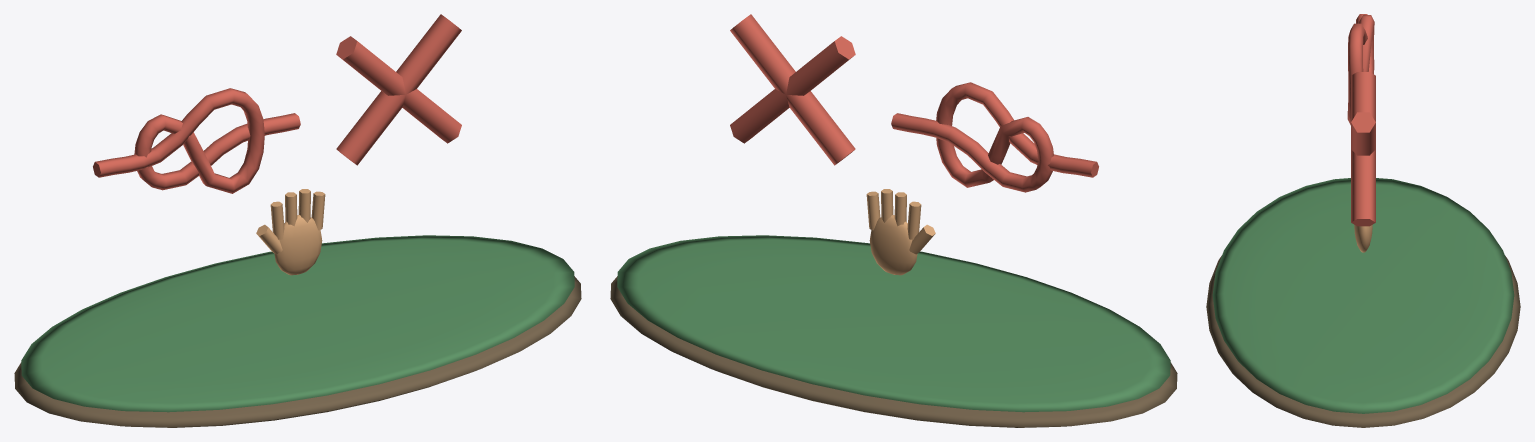
The model's file is complete-second-numb-annoyed-trouble.glb.
3 renders of one model, left to right at view 1: azimuth 30°, elevation 25°; view 2: azimuth 150°, elevation 25°; view 3: azimuth 270°, elevation 25°, orthographic. The views are drawn at different scales.
Visible parts, largest first — view 1: complete-second-numb-annoyed-trouble_surface_01, complete-second-numb-annoyed-trouble_surface_02, complete-second-numb-annoyed-trouble_surface_00, complete-second-numb-annoyed-trouble_surface_03; view 2: complete-second-numb-annoyed-trouble_surface_01, complete-second-numb-annoyed-trouble_surface_02, complete-second-numb-annoyed-trouble_surface_00, complete-second-numb-annoyed-trouble_surface_03; view 3: complete-second-numb-annoyed-trouble_surface_01, complete-second-numb-annoyed-trouble_surface_00, complete-second-numb-annoyed-trouble_surface_02, complete-second-numb-annoyed-trouble_surface_03.
Boxes of the visible parts, x1,y1,x2,y2 form: complete-second-numb-annoyed-trouble_surface_01: [21, 235, 574, 412]; complete-second-numb-annoyed-trouble_surface_02: [93, 14, 461, 193]; complete-second-numb-annoyed-trouble_surface_00: [14, 276, 581, 427]; complete-second-numb-annoyed-trouble_surface_03: [256, 189, 325, 275]; complete-second-numb-annoyed-trouble_surface_01: [617, 235, 1170, 412]; complete-second-numb-annoyed-trouble_surface_02: [730, 14, 1098, 192]; complete-second-numb-annoyed-trouble_surface_00: [610, 276, 1177, 427]; complete-second-numb-annoyed-trouble_surface_03: [866, 189, 935, 275]; complete-second-numb-annoyed-trouble_surface_01: [1212, 178, 1514, 413]; complete-second-numb-annoyed-trouble_surface_00: [1206, 255, 1520, 427]; complete-second-numb-annoyed-trouble_surface_02: [1347, 14, 1375, 226]; complete-second-numb-annoyed-trouble_surface_03: [1354, 225, 1372, 252].
Size of the model in its own units: 4.56 by 2.41 by 2.5.
